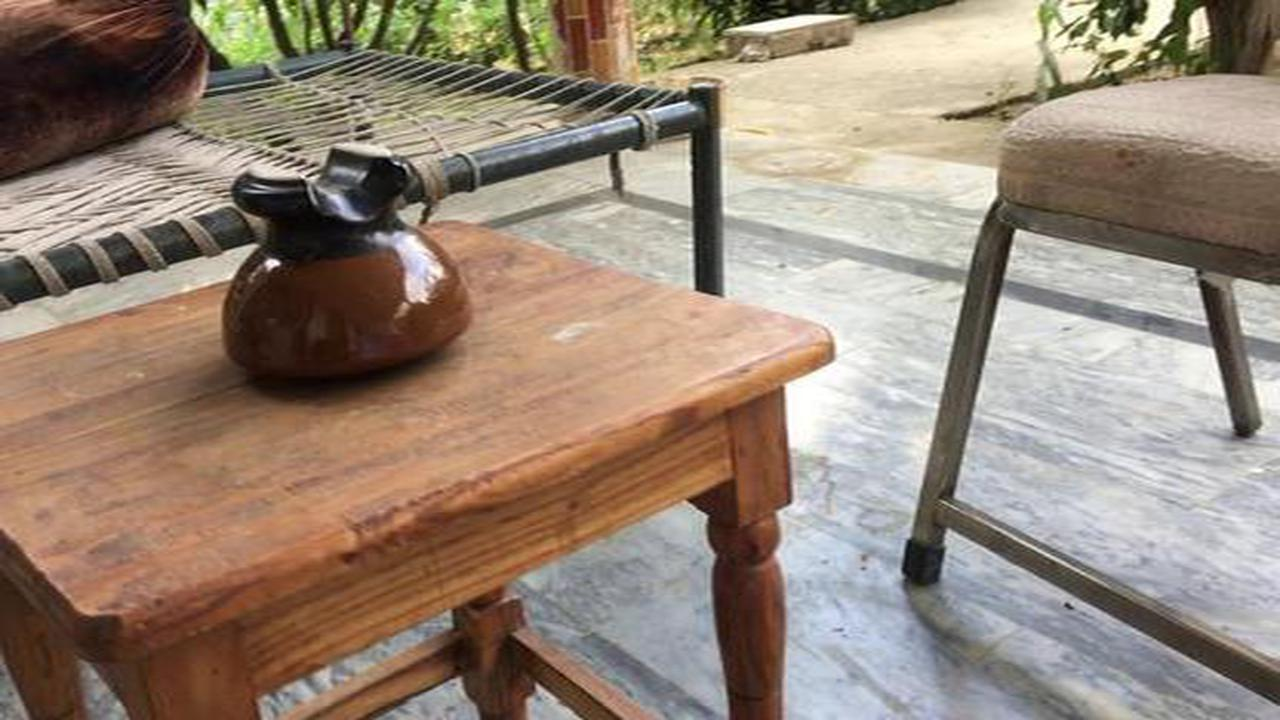insulator_pin: (191, 137, 496, 404)
